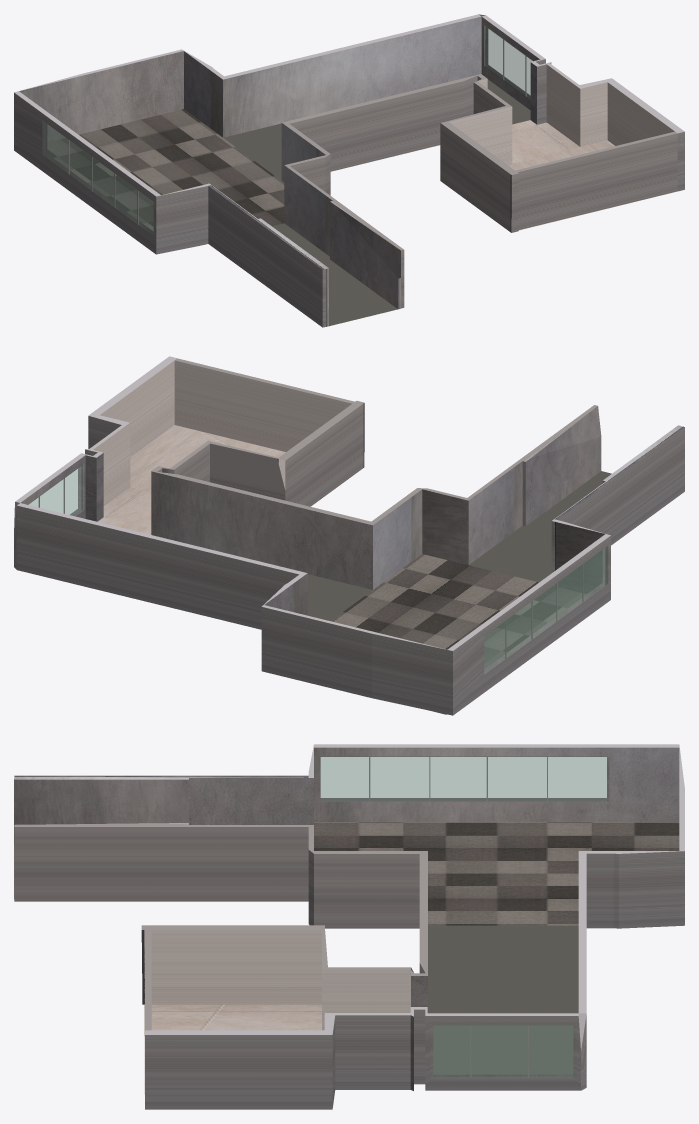
File: ofis.fbx
3 views of the same model, one above another, from view 1: azimuth 30°, elevation 25°; view 2: azimuth 150°, elevation 25°; view 3: azimuth 270°, elevation 25° (orthographic). The views are drawn at different scales.
Visible parts, largest first — view 1: Cube.001; view 2: Cube.001; view 3: Cube.001.
Part boxes in pixels (left/top/right/bottom): Cube.001: left=14, top=14, right=684, bottom=327; Cube.001: left=14, top=356, right=684, bottom=715; Cube.001: left=14, top=744, right=684, bottom=1109.
Size of the model in its own units: 20930 by 2510 by 20434.
Materials: 6 (4 with a texture image).
